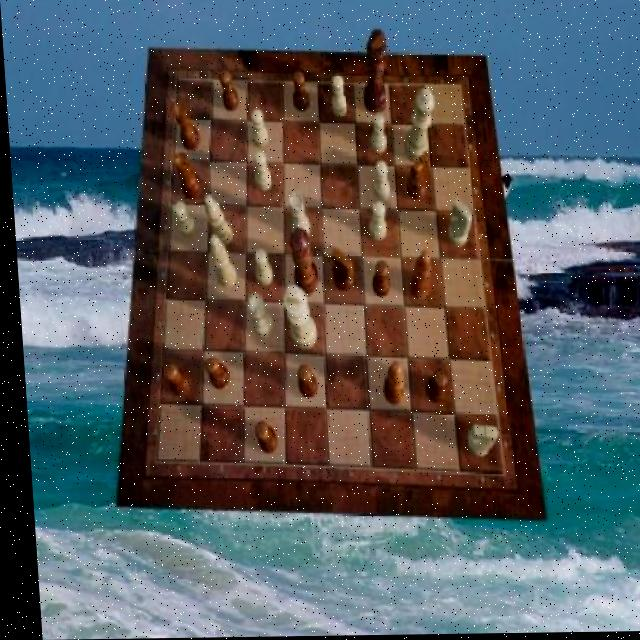bishop: (402, 251, 428, 300), (377, 363, 400, 407)
black-bishop: (358, 31, 389, 115)
black-king: (402, 152, 429, 201), (328, 248, 351, 292)
black-knight: (158, 363, 184, 398), (199, 356, 225, 390), (219, 71, 238, 113), (248, 422, 272, 455), (420, 372, 443, 406), (289, 72, 308, 113), (292, 366, 314, 400), (367, 263, 387, 298)
black-pawn: (285, 231, 316, 297)
black-queen: (170, 152, 200, 199), (170, 102, 197, 152)
black-rook: (201, 196, 230, 249), (205, 234, 232, 289)
white-bishop: (278, 286, 313, 352)
white-king: (442, 199, 470, 248), (459, 425, 494, 459)
white-knight: (171, 201, 194, 239), (366, 112, 385, 154), (250, 152, 270, 191), (364, 202, 384, 240), (328, 76, 346, 118), (369, 163, 388, 202), (251, 249, 270, 287), (247, 111, 266, 149)
white-pawn: (397, 89, 435, 164)
white-queen: (243, 294, 269, 338), (284, 194, 307, 242)
